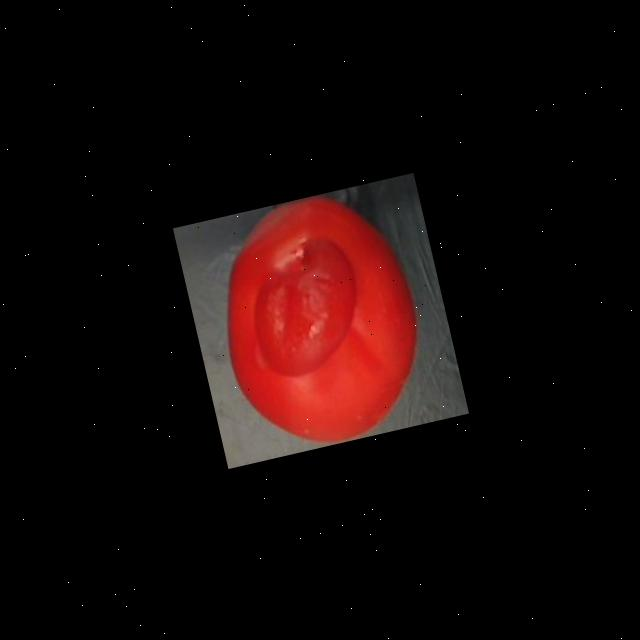tomato: (194, 178, 442, 463)
